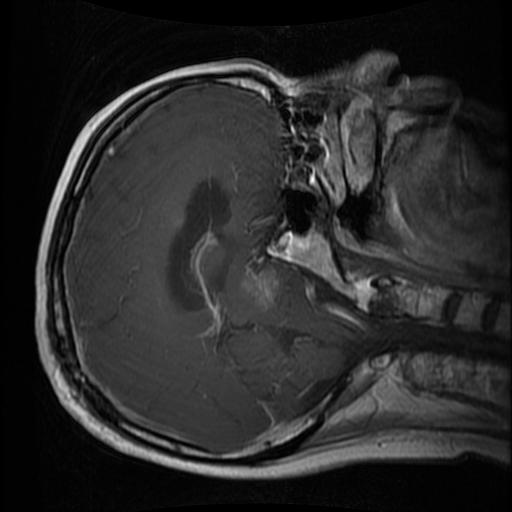glioma: (240, 267, 282, 314)
